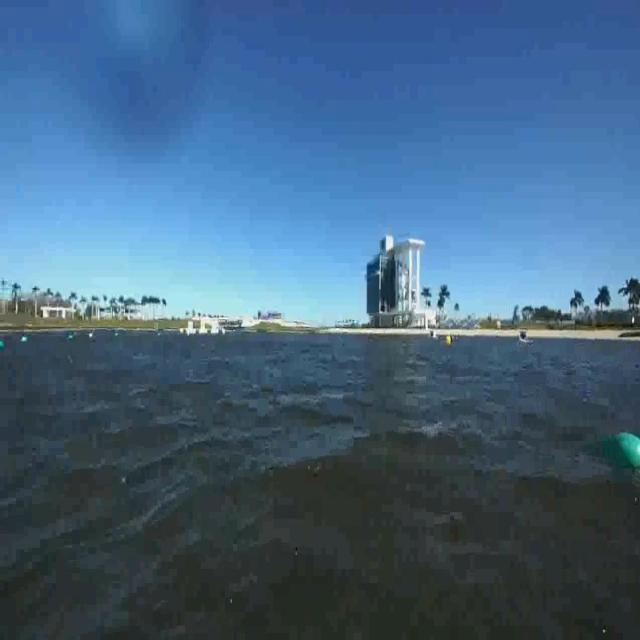green-buoy: (603, 432, 640, 472), (0, 341, 5, 350)
yellow-buoy: (446, 334, 454, 348)
